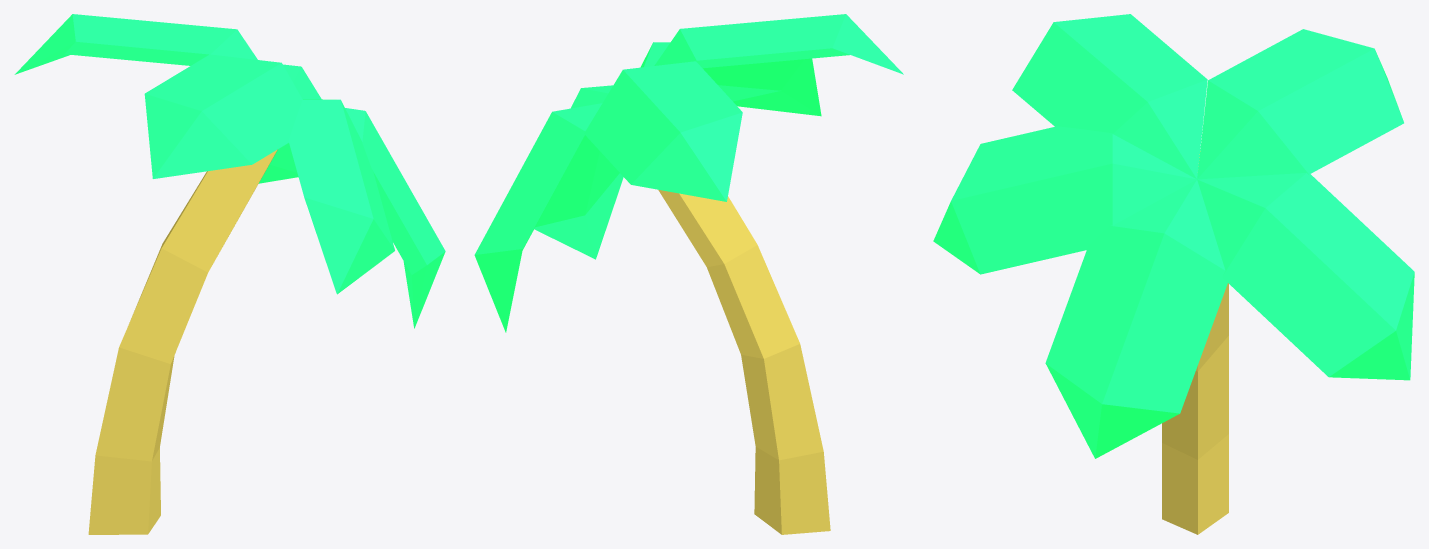
File: tree01.fbx
The picture shows the model from 3 angles, left to right: view 1: azimuth 30°, elevation 25°; view 2: azimuth 150°, elevation 25°; view 3: azimuth 270°, elevation 25°; orthographic projection. The views are drawn at different scales.
Visible parts, largest first — view 1: beach_tree01, beach_tree01.001; view 2: beach_tree01, beach_tree01.001; view 3: beach_tree01, beach_tree01.001.
Part boxes in pixels (x1=…): beach_tree01: x1=14, y1=14, x2=445, y2=328; beach_tree01.001: x1=88, y1=149, x2=277, y2=534; beach_tree01: x1=474, y1=14, x2=903, y2=332; beach_tree01.001: x1=658, y1=190, x2=830, y2=534; beach_tree01: x1=933, y1=14, x2=1414, y2=458; beach_tree01.001: x1=1162, y1=151, x2=1228, y2=534.
Size of the model in its own units: 3.16 by 4.33 by 3.78.
